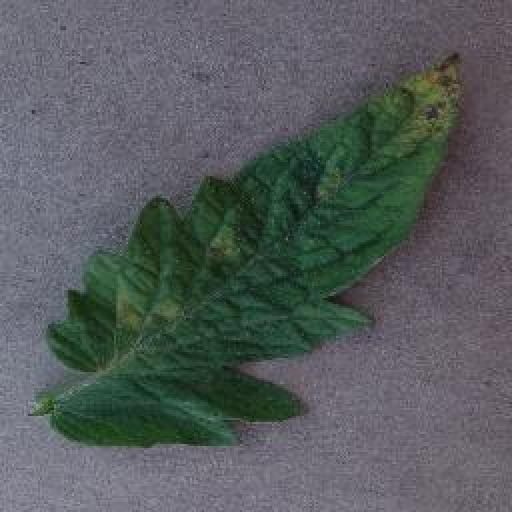Leaf Mold: (41, 48, 471, 452)
